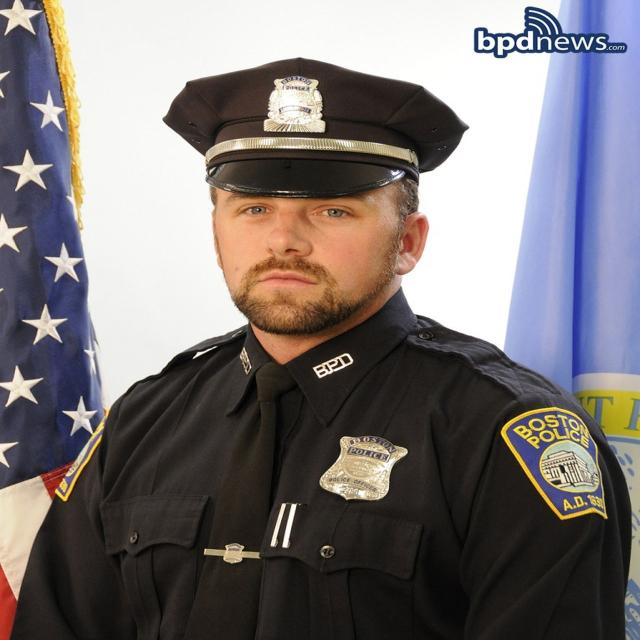police: (35, 57, 628, 640)
